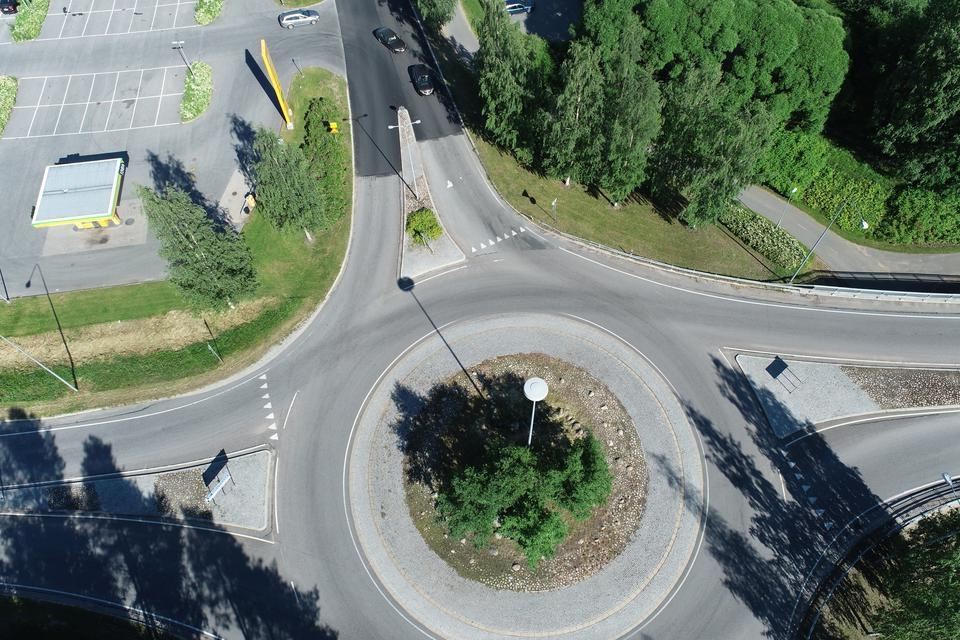roundabout: (243, 238, 808, 640)
